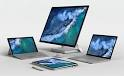laptop: (38, 3, 86, 51), (75, 31, 117, 64), (3, 33, 46, 58), (30, 56, 78, 70)
